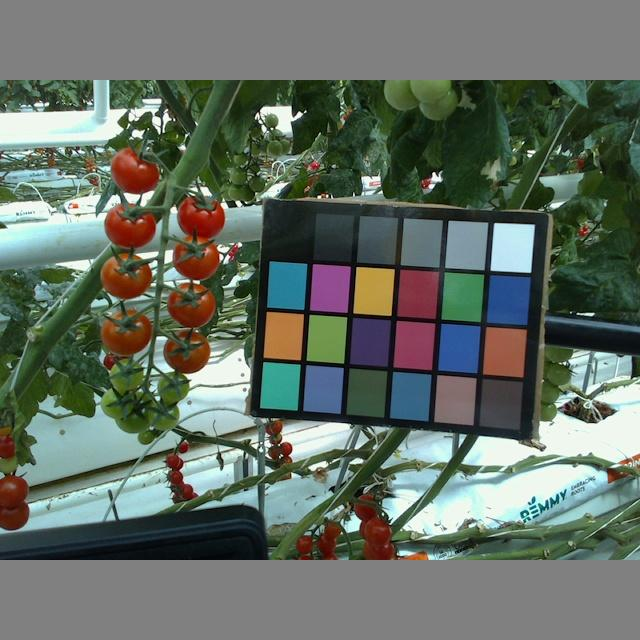green: (418, 86, 463, 122), (382, 81, 424, 112), (99, 386, 135, 419), (108, 360, 145, 392), (146, 401, 178, 433), (156, 375, 192, 403), (408, 81, 451, 104), (135, 428, 154, 447)
pink: (97, 309, 154, 357), (167, 282, 218, 330), (101, 254, 152, 299), (163, 330, 211, 373), (177, 238, 219, 283), (1, 495, 29, 530), (1, 473, 28, 508), (363, 518, 393, 547), (353, 494, 383, 520)
red: (110, 147, 161, 191), (104, 206, 156, 249), (177, 197, 225, 240), (298, 531, 316, 556), (320, 521, 343, 539), (320, 536, 338, 556)
